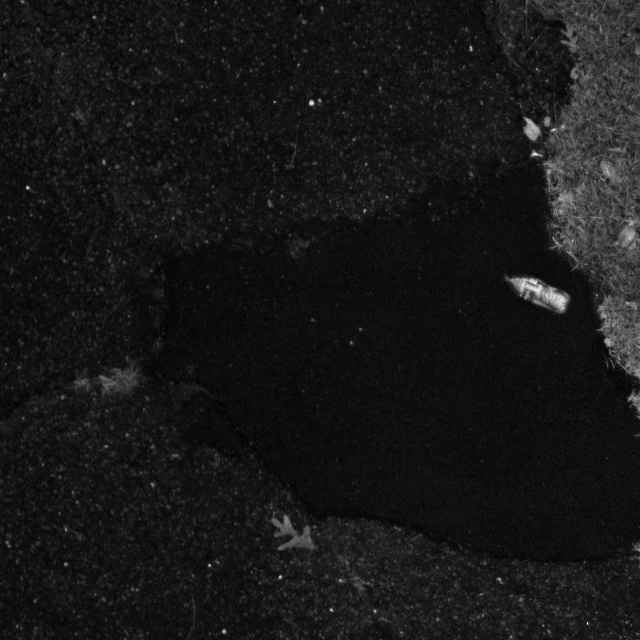bottle: (494, 258, 571, 318)
